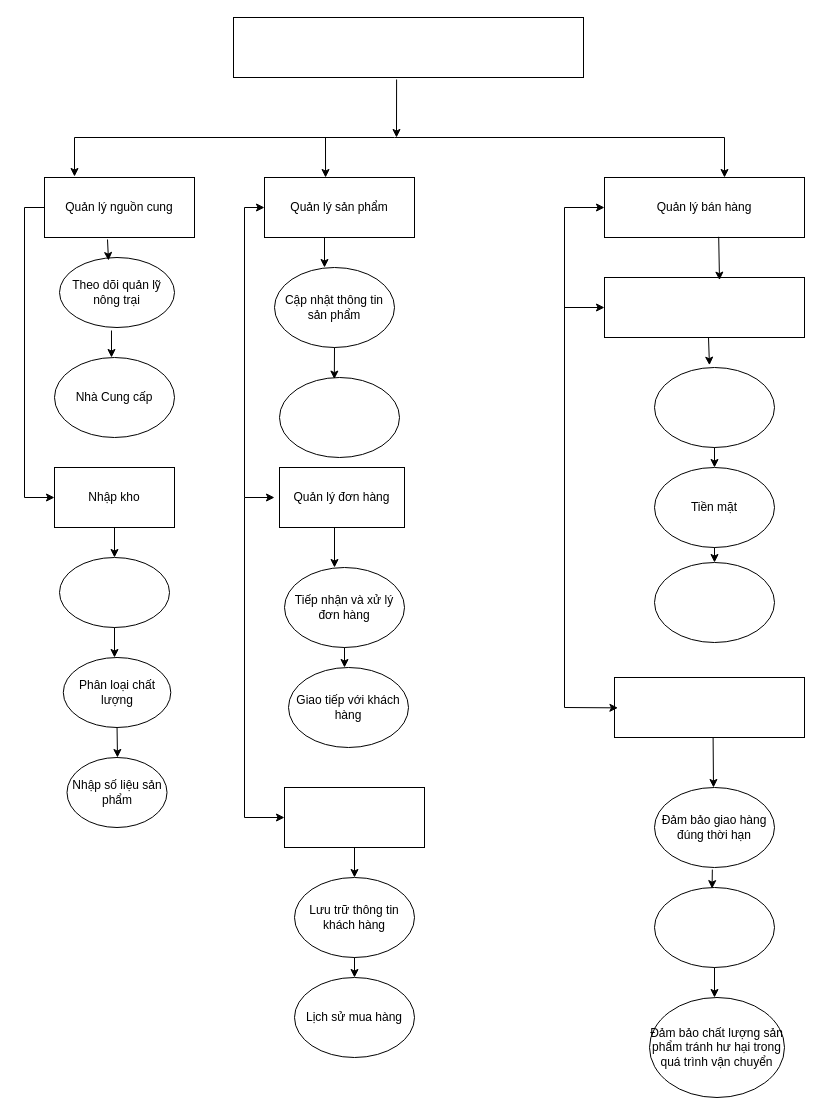
Image size: 822x1115. Some labels were removed from this diagram. The shapes that lost their labels are listed below. From the top down, each one's centre as x and y in pixels, then its label:
the point at 408,47: Quản lý bán rau củ
the point at 704,307: Thanh toán
the point at 339,417: Tên, loại, giá số lượng, nguồn gốc
the point at 714,407: Tích hợp các phương thức thanh toán
the point at 114,592: Kiểm tra sản phẩm
the point at 714,602: Chuyển khoản
the point at 709,707: Giao hàng
the point at 354,817: Quản lý khách hàng
the point at 714,927: Vận chuyển bằng xe tải
